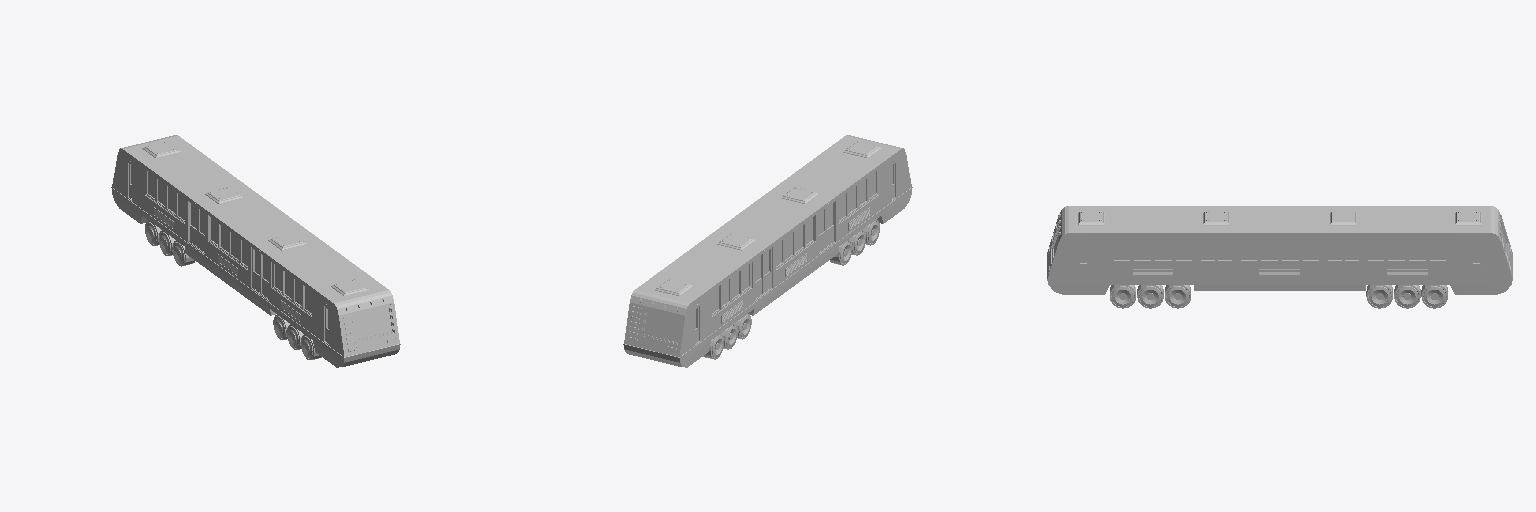
File: train.obj
3 renders of one model, left to right at view 1: azimuth 30°, elevation 25°; view 2: azimuth 150°, elevation 25°; view 3: azimuth 270°, elevation 25°, orthographic.
Parts seen in each view (by area): view 1: Subway_Car; view 2: Subway_Car; view 3: Subway_Car.
Boxes of the visible parts, <box> form: Subway_Car: <box>111,135,400,367</box>; Subway_Car: <box>623,135,912,367</box>; Subway_Car: <box>1047,206,1512,308</box>.
Size of the model in its own units: 1.05 by 1.4 by 7.46.